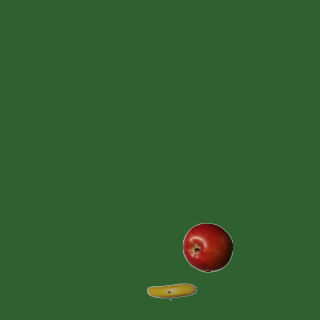Apple Braeburn: (182, 222, 232, 272)
Banana: (146, 266, 196, 316)
